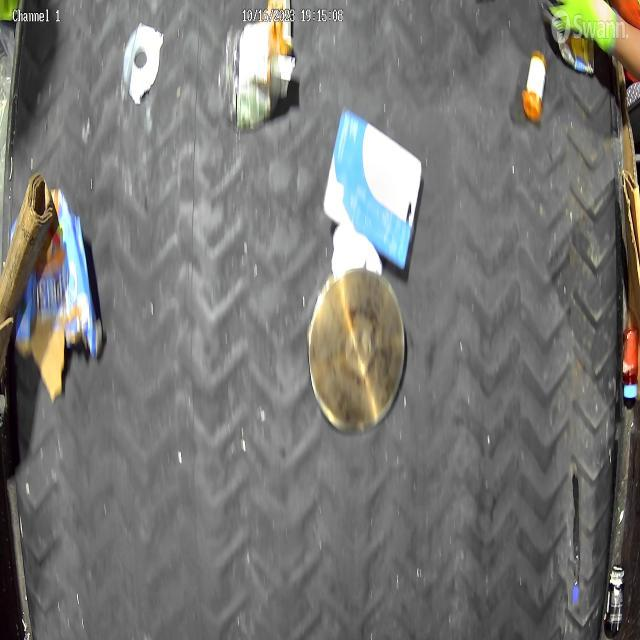can: (556, 30, 596, 76)
